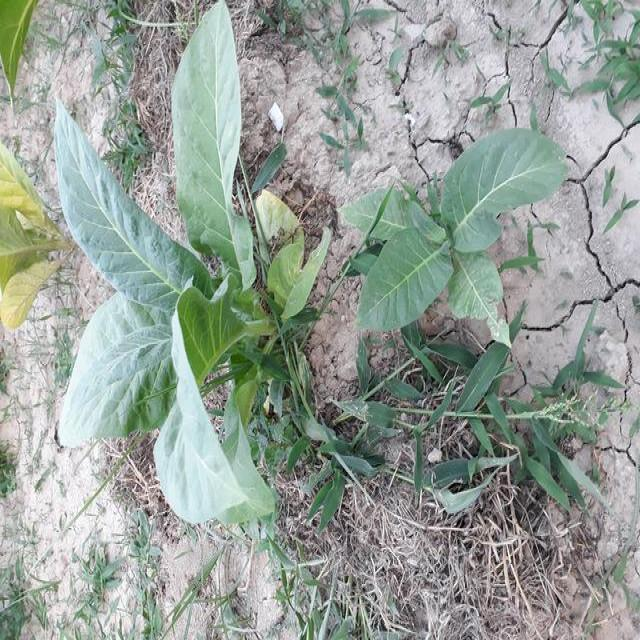crop: (35, 5, 314, 544)
